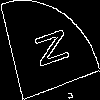N: (25, 25, 70, 73)
